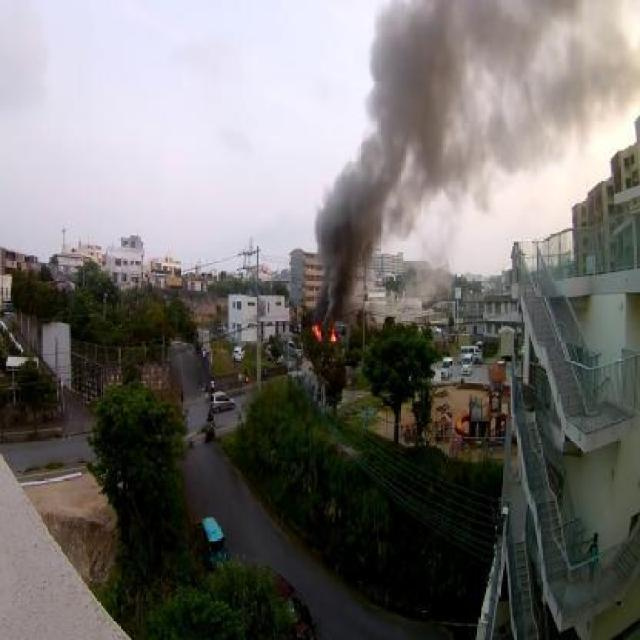Fire: (312, 326, 322, 340), (330, 330, 336, 342)
